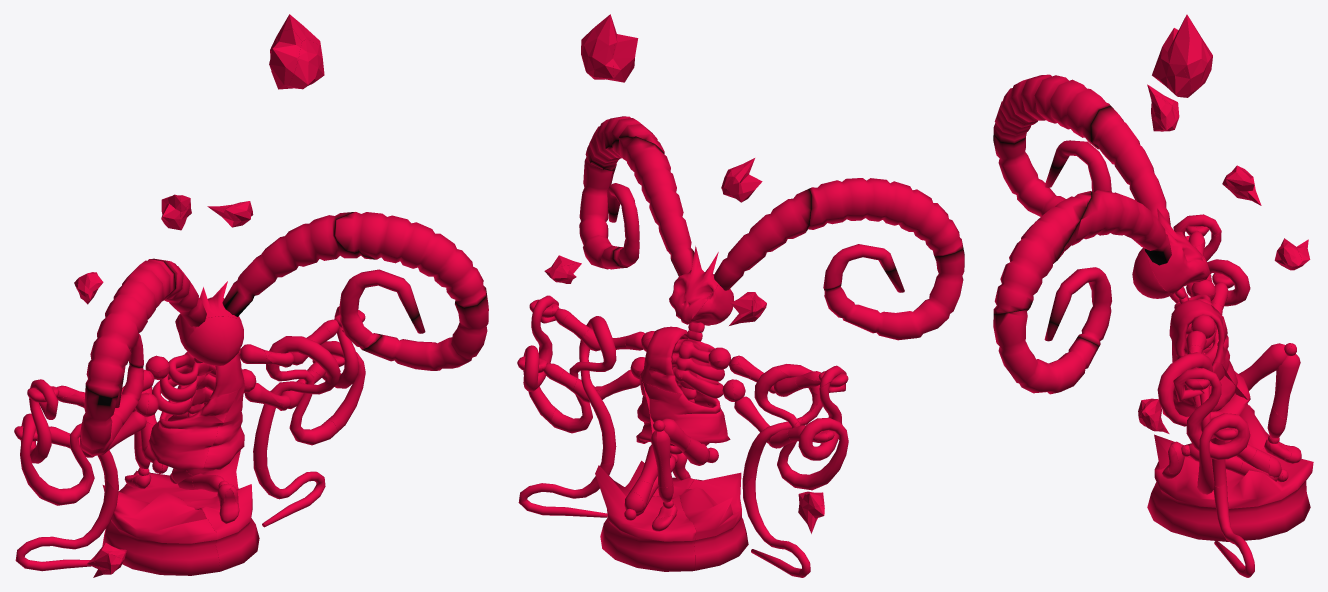
File: CELL_StatueOfGreed.fbx
The picture shows the model from 3 angles, left to right: view 1: azimuth 30°, elevation 25°; view 2: azimuth 150°, elevation 25°; view 3: azimuth 270°, elevation 25°; orthographic projection. The views are drawn at different scales.
Parts seen in each view (by area): view 1: Base.003_cell.001, NurbsPath.006_cell.001, NurbsPath.003_cell.004, NurbsPath.006_cell.002, NurbsPath.007_cell.001, NurbsPath.006_cell, Plane.001_cell.001, NurbsPath.005_cell.007, NurbsPath.003_cell.001, Base.003_cell, NurbsPath.006_cell.005, NurbsPath.005_cell.009 (+13 smaller); view 2: NurbsPath.003_cell.004, Base.003_cell.002, NurbsPath.003_cell.001, Base.003_cell.001, NurbsPath.006_cell.002, NurbsPath.003_cell, NurbsPath.007_cell.001, NurbsPath.005_cell.007, Plane.001_cell.001, NurbsPath.006_cell, Body.001_cell.002, NurbsPath.007_cell (+16 smaller); view 3: Base.003_cell.002, NurbsPath.003_cell.004, NurbsPath.006_cell.001, NurbsPath.006_cell, Base.003_cell, NurbsPath.006_cell.002, NurbsPath.003_cell, NurbsPath.007_cell, NurbsPath.003_cell.001, NurbsPath.006_cell.005, NurbsPath.007_cell.001, Head.002_cell.002 (+17 smaller).
Boxes of the visible parts, x1,y1,x2,y2 form: Base.003_cell.001: [102, 485, 220, 575]; NurbsPath.006_cell.001: [334, 212, 486, 307]; NurbsPath.003_cell.004: [85, 259, 175, 397]; NurbsPath.006_cell.002: [222, 212, 374, 316]; NurbsPath.007_cell.001: [253, 336, 340, 469]; NurbsPath.006_cell: [362, 287, 488, 370]; Plane.001_cell.001: [148, 387, 238, 469]; NurbsPath.005_cell.007: [20, 385, 94, 505]; NurbsPath.003_cell.001: [80, 363, 143, 456]; Base.003_cell: [185, 484, 259, 571]; NurbsPath.006_cell.005: [339, 269, 419, 349]; NurbsPath.005_cell.009: [15, 479, 117, 571]; NurbsPath.003_cell.004: [807, 178, 963, 256]; Base.003_cell.002: [595, 465, 695, 571]; NurbsPath.003_cell.001: [824, 248, 964, 340]; Base.003_cell.001: [679, 472, 748, 570]; NurbsPath.006_cell.002: [605, 136, 694, 276]; NurbsPath.003_cell: [713, 189, 810, 290]; NurbsPath.007_cell.001: [551, 316, 616, 463]; NurbsPath.005_cell.007: [777, 381, 848, 490]; Plane.001_cell.001: [642, 381, 730, 445]; NurbsPath.006_cell: [579, 157, 626, 269]; Body.001_cell.002: [673, 322, 724, 398]; NurbsPath.007_cell: [523, 295, 558, 423]; Base.003_cell.002: [1226, 447, 1313, 540]; NurbsPath.003_cell.004: [993, 74, 1110, 149]; NurbsPath.006_cell.001: [993, 191, 1091, 314]; NurbsPath.006_cell: [993, 309, 1098, 394]; Base.003_cell: [1147, 457, 1229, 541]; NurbsPath.006_cell.002: [1053, 190, 1171, 265]; NurbsPath.003_cell: [1091, 106, 1170, 225]; NurbsPath.007_cell: [1173, 368, 1250, 493]; NurbsPath.003_cell.001: [993, 133, 1065, 216]; NurbsPath.006_cell.005: [1049, 267, 1111, 346]; NurbsPath.007_cell.001: [1157, 352, 1226, 494]; Head.002_cell.002: [1148, 208, 1210, 293].
Size of the model in its own units: 967 by 1204 by 649.
